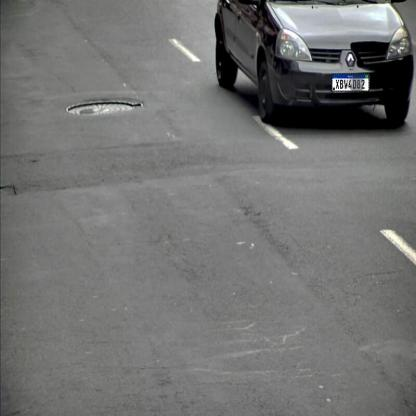PlacaM: (332, 74, 369, 92)
